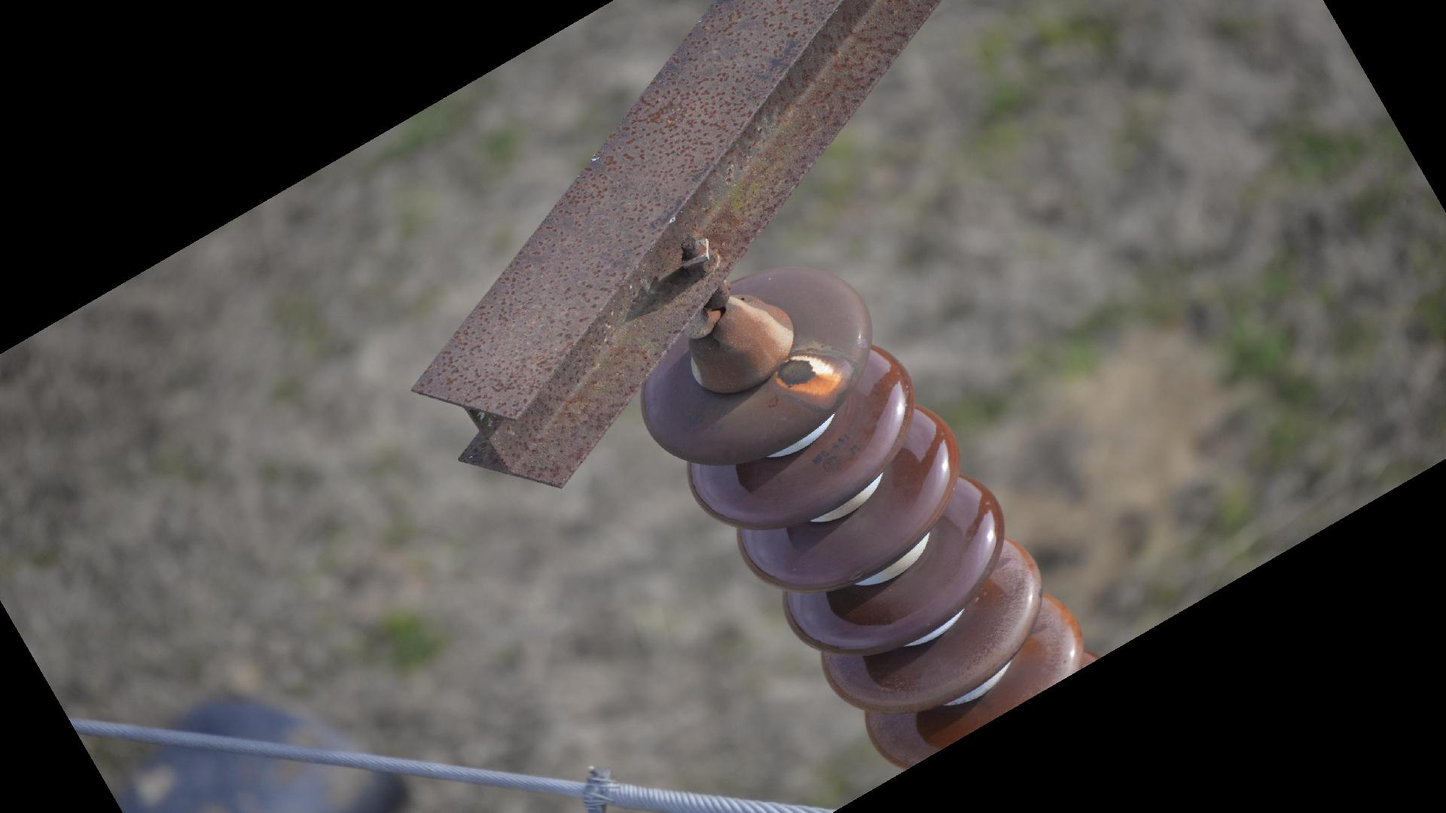insulator: (633, 260, 1103, 771)
insulator_flashover: (771, 343, 850, 399)
